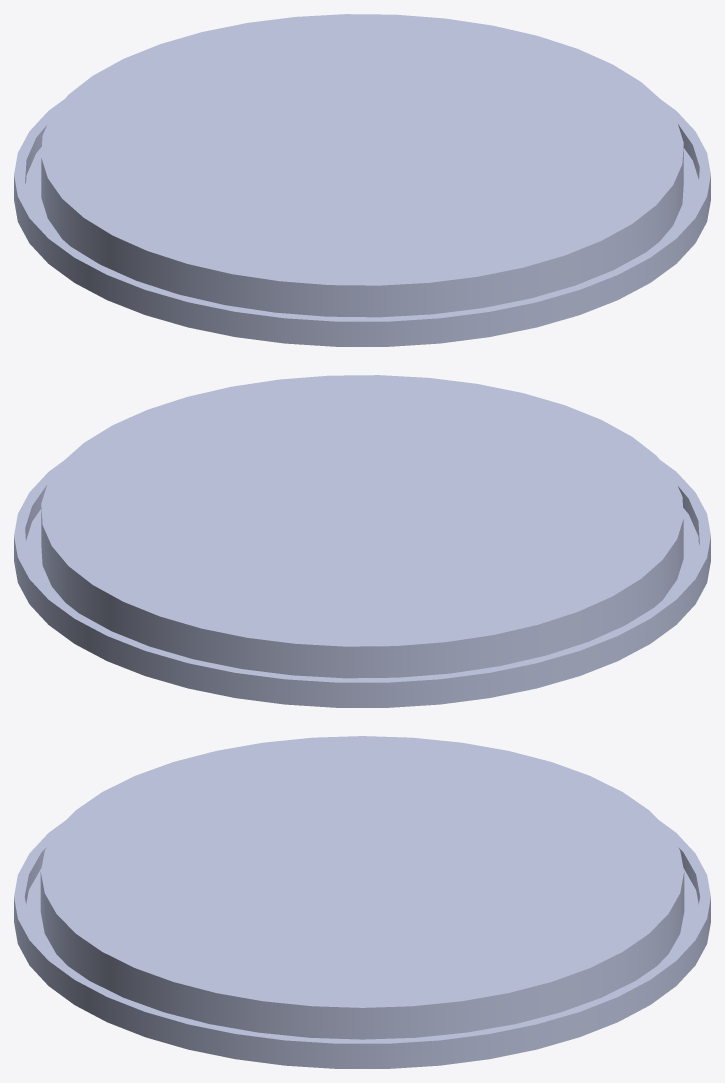
Rendered from 60_fondo_sel.glb.
3 renders of one model, top to bottom at view 1: azimuth 30°, elevation 25°; view 2: azimuth 150°, elevation 25°; view 3: azimuth 270°, elevation 25°, orthographic.
Visible parts, largest first — view 1: FONDO SELLADO METAL 60; view 2: FONDO SELLADO METAL 60; view 3: FONDO SELLADO METAL 60.
Boxes of the visible parts, x1,y1,x2,y2 form: FONDO SELLADO METAL 60: (14,14,710,346); FONDO SELLADO METAL 60: (14,375,710,707); FONDO SELLADO METAL 60: (14,736,710,1068).
Bounding box in the file's own units: 0.0648 × 0.00516 × 0.065.
